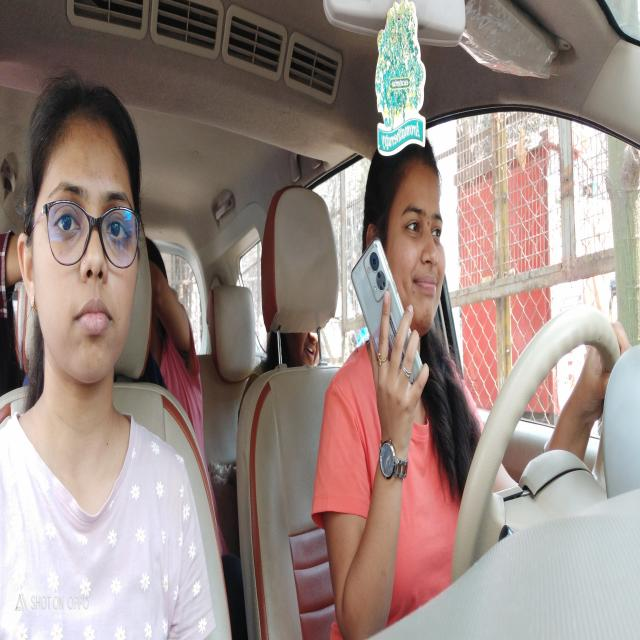mobile: (347, 238, 424, 402)
person: (21, 72, 150, 406), (361, 126, 452, 334), (282, 334, 326, 373)
